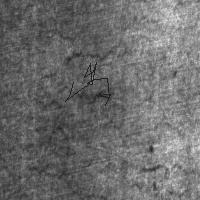crazing: (25, 48, 116, 112), (27, 124, 103, 199), (65, 62, 110, 105)
